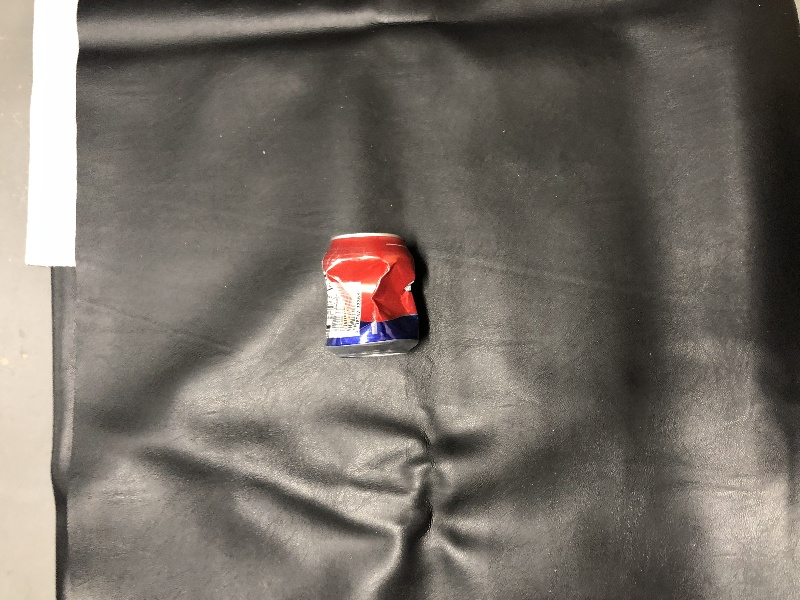metal: (310, 220, 434, 365)
